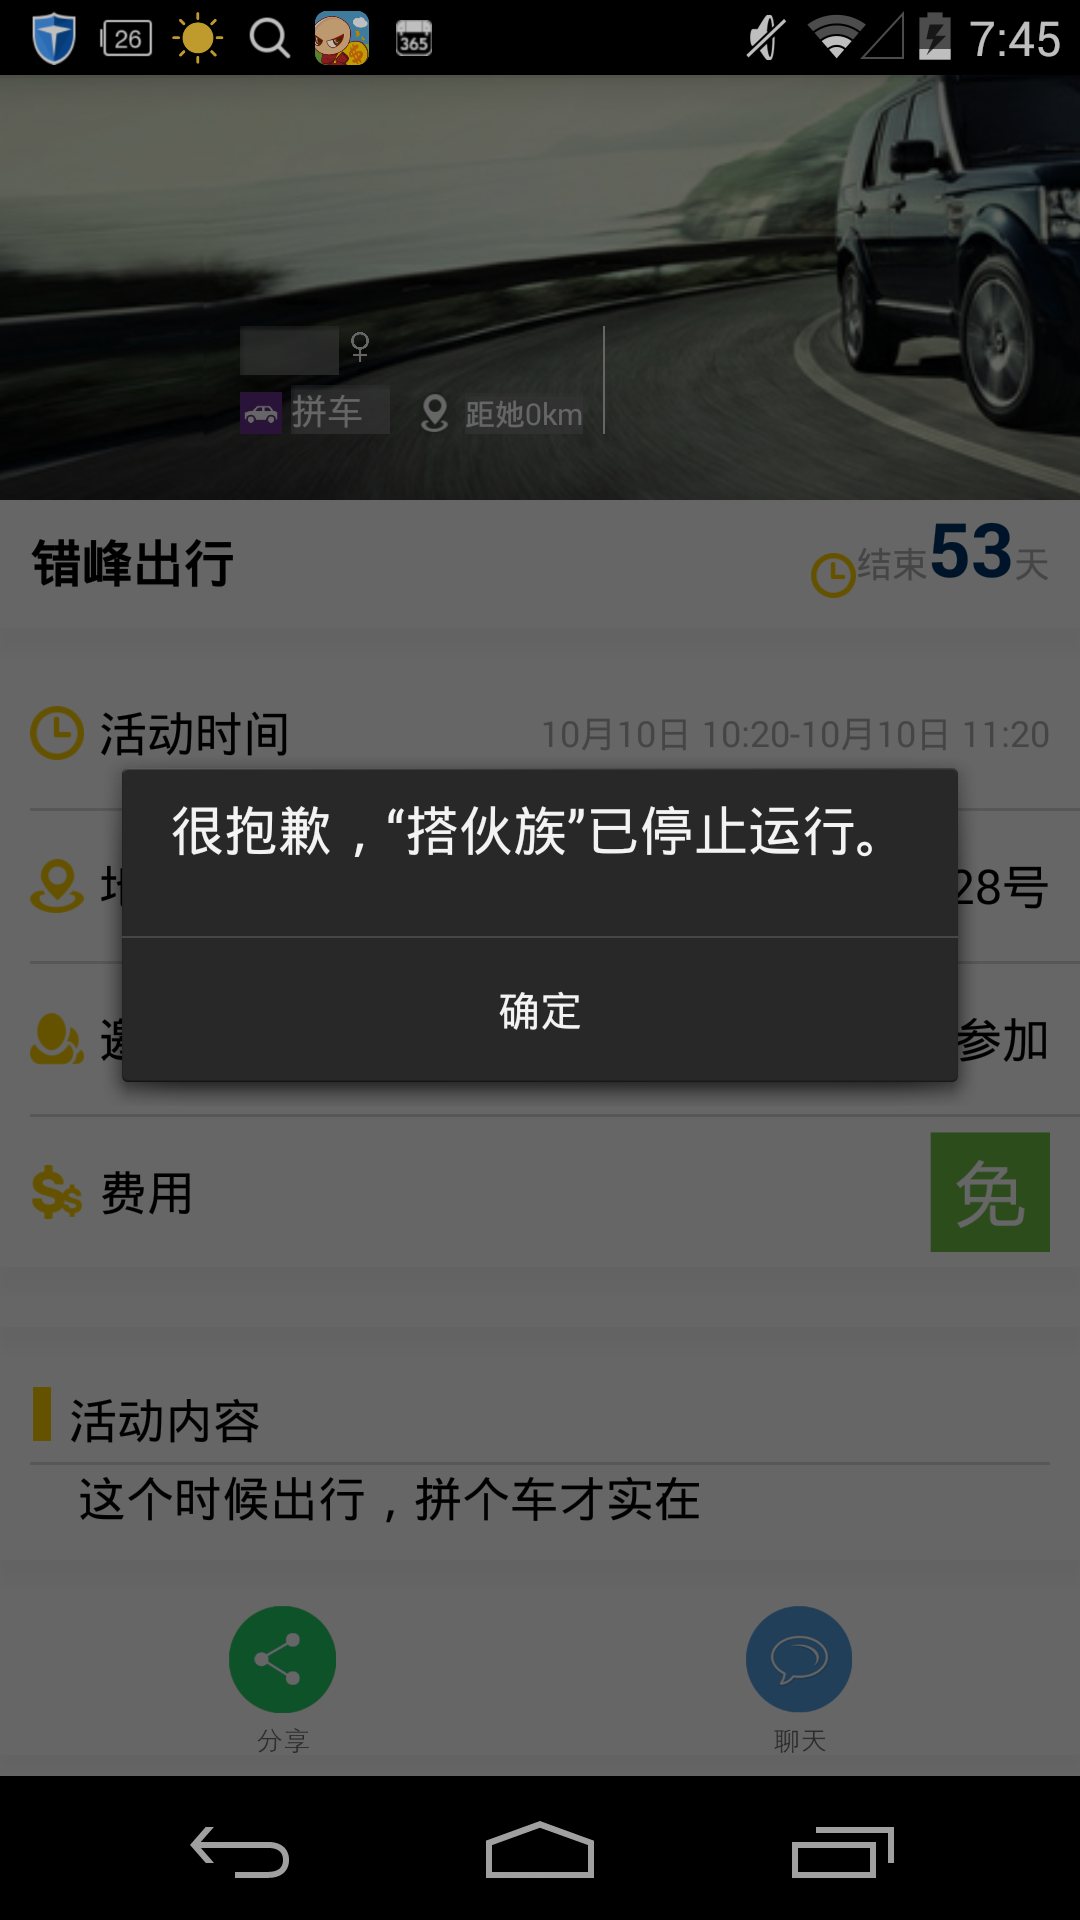alert: (115, 756, 981, 1108)
imgbutton: (683, 1589, 919, 1762), (185, 1596, 390, 1756)
nav: (61, 1787, 1007, 1908)
textview: (11, 1362, 1073, 1543)
